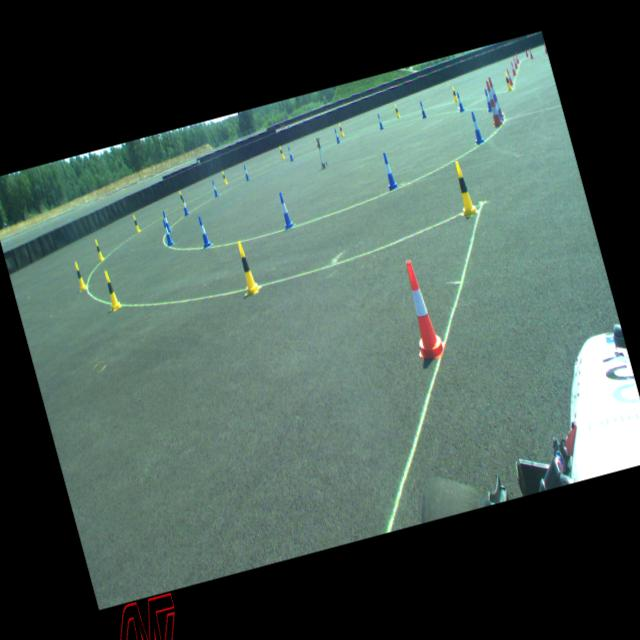blue_cone: (380, 151, 398, 190), (276, 190, 294, 228), (468, 110, 484, 143), (196, 215, 211, 247), (160, 218, 173, 246), (492, 94, 503, 120), (482, 88, 492, 111), (162, 210, 171, 232), (180, 196, 190, 215), (455, 92, 464, 110), (418, 100, 426, 118), (210, 180, 218, 197), (242, 164, 250, 180), (376, 114, 383, 130), (287, 146, 294, 160), (333, 128, 340, 142)
large_orange_cone: (482, 80, 502, 126), (488, 77, 504, 118)
orange_cone: (394, 256, 447, 363), (506, 68, 514, 84), (510, 61, 516, 75), (512, 56, 518, 68), (542, 42, 548, 53), (528, 47, 533, 58), (514, 52, 518, 63)
yellow_cone: (449, 160, 477, 217), (232, 240, 260, 294), (102, 270, 121, 310), (72, 260, 86, 290), (94, 238, 104, 260), (503, 72, 512, 90), (132, 214, 140, 232), (178, 190, 186, 206), (451, 85, 458, 102), (220, 170, 228, 183), (278, 144, 285, 158), (393, 104, 400, 118), (338, 122, 344, 136)
